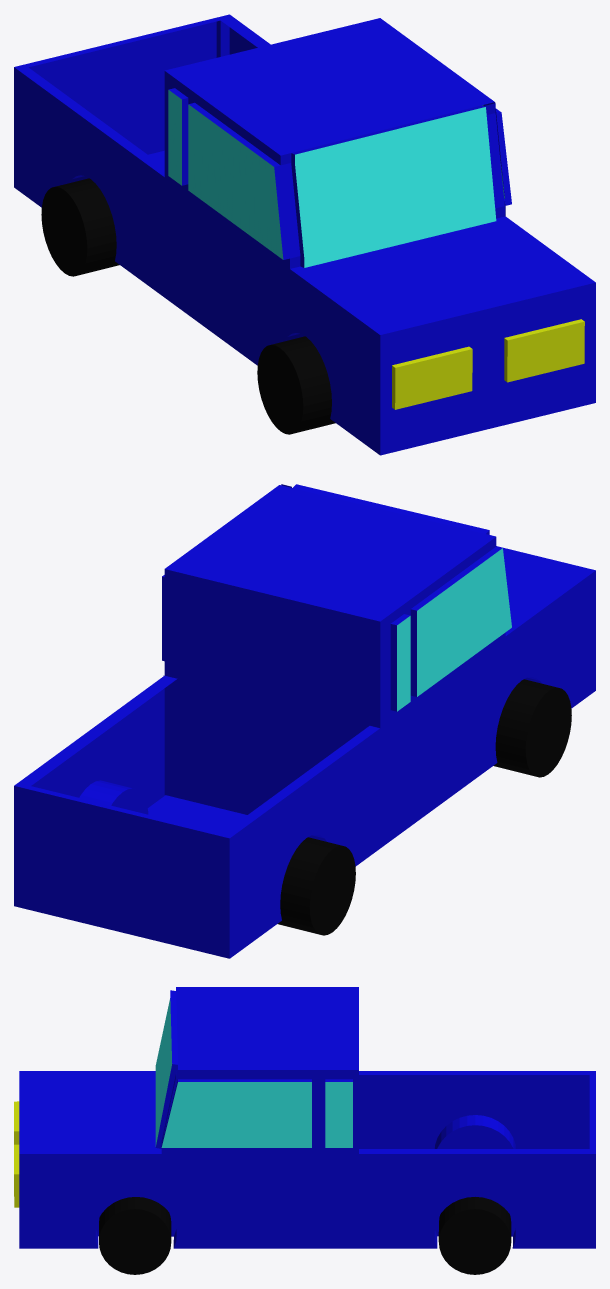
Rendered from AsgoresTruck.fbx.
The picture shows the model from 3 angles, top to bottom: view 1: azimuth 30°, elevation 25°; view 2: azimuth 150°, elevation 25°; view 3: azimuth 270°, elevation 25°; orthographic projection. The views are drawn at different scales.
Visible parts, largest first — view 1: Cube.002, wheel; view 2: Cube.002, wheel; view 3: Cube.002, wheel.
Part boxes in pixels (x1,y1,x2,y2): Cube.002: (14,14,595,455); wheel: (41,178,335,434); Cube.002: (14,484,595,958); wheel: (278,679,571,935); Cube.002: (14,987,595,1248); wheel: (99,1197,511,1274).
Bounding box in the file's own units: 244 × 223 × 594.
